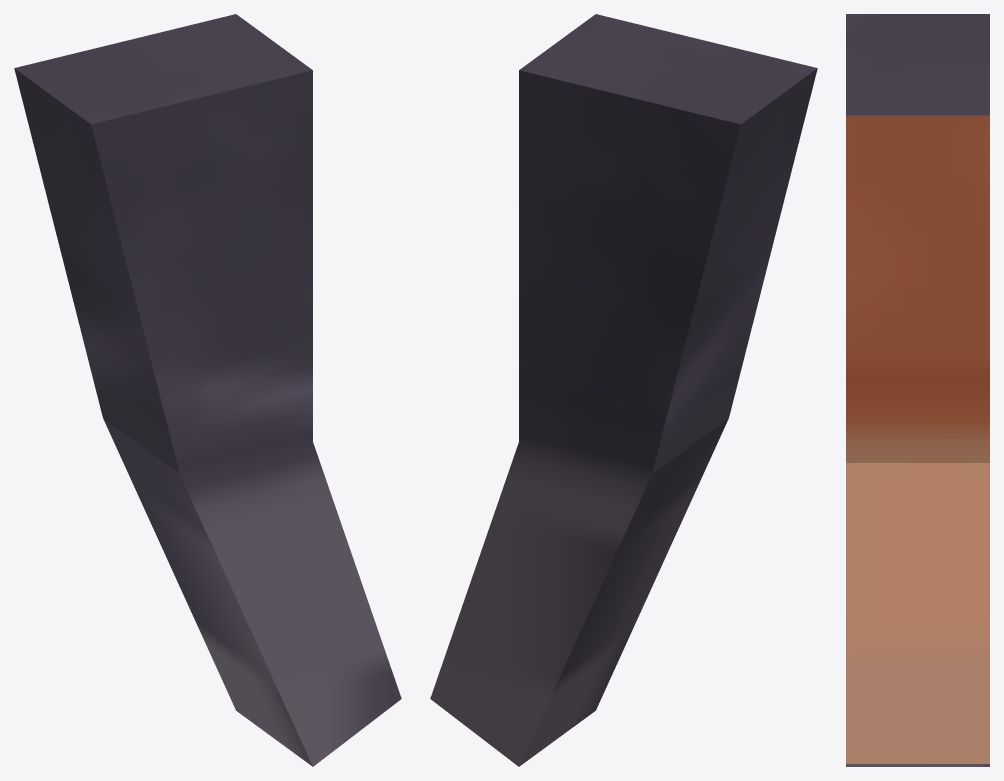
The model's file is rifle_trigger.fbx.
The picture shows the model from 3 angles, left to right: view 1: azimuth 30°, elevation 25°; view 2: azimuth 150°, elevation 25°; view 3: azimuth 270°, elevation 25°; orthographic projection. The views are drawn at different scales.
Parts seen in each view (by area): view 1: rifle_trigger; view 2: rifle_trigger; view 3: rifle_trigger.
Boxes of the visible parts, x1=… form: rifle_trigger: x1=14, y1=14, x2=401, y2=766; rifle_trigger: x1=430, y1=14, x2=817, y2=766; rifle_trigger: x1=846, y1=14, x2=989, y2=766.
Size of the model in its own units: 0.0525 by 0.1125 by 0.0225.
